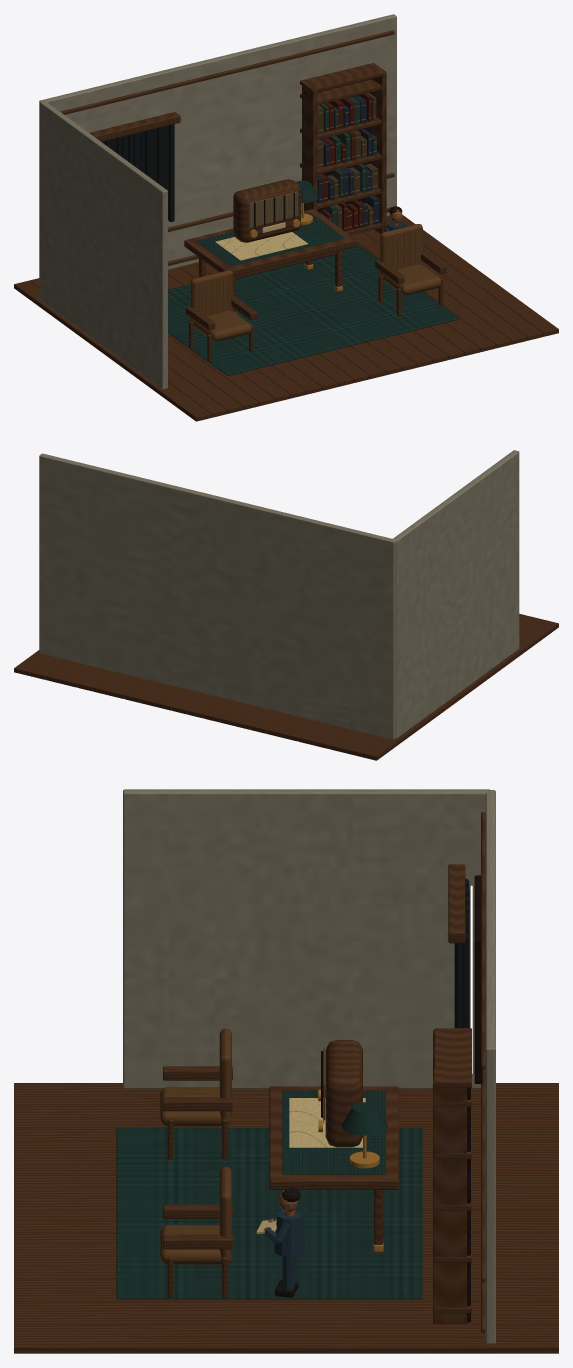
The model's file is room.glb.
The picture shows the model from 3 angles, top to bottom: view 1: azimuth 30°, elevation 25°; view 2: azimuth 150°, elevation 25°; view 3: azimuth 270°, elevation 25°; orthographic projection. The views are drawn at different scales.
Parts seen in each view (by area): view 1: Wallpaper back wall, Domestic floorboard, Rectangular woven carpet, Armchair cushion, Blackout curtain fold, Cloth-bound volume.002, Cloth-bound volume.001, Cloth-bound volume.004, Cloth-bound volume, Blank contour study, Radio cloth grille, Brass leg shoe (+1 smaller); view 2: Wallpaper back wall, Domestic floorboard; view 3: Wallpaper back wall, Domestic floorboard, Rectangular woven carpet, Armchair cushion, Window frame, Figure trouser, Blank contour study, Blackout curtain fold, Brass leg shoe.
Boxes of the visible parts, bbox=[...] form: Wallpaper back wall: bbox=[39, 14, 396, 389]; Domestic floorboard: bbox=[14, 30, 558, 421]; Rectangular woven carpet: bbox=[168, 180, 459, 375]; Armchair cushion: bbox=[190, 224, 441, 341]; Blackout curtain fold: bbox=[102, 124, 174, 221]; Cloth-bound volume.002: bbox=[317, 93, 371, 231]; Cloth-bound volume.001: bbox=[317, 95, 379, 227]; Cloth-bound volume.004: bbox=[317, 92, 378, 228]; Cloth-bound volume: bbox=[319, 97, 376, 225]; Blank contour study: bbox=[215, 222, 307, 260]; Radio cloth grille: bbox=[249, 191, 298, 227]; Brass leg shoe: bbox=[235, 101, 378, 313]; Wallpaper back wall: bbox=[39, 450, 519, 739]; Domestic floorboard: bbox=[14, 613, 558, 760]; Wallpaper back wall: bbox=[123, 789, 495, 1344]; Domestic floorboard: bbox=[14, 811, 558, 1353]; Rectangular woven carpet: bbox=[116, 1090, 422, 1299]; Armchair cushion: bbox=[160, 1028, 231, 1264]; Window frame: bbox=[321, 875, 482, 1322]; Figure trouser: bbox=[264, 1209, 305, 1290]; Blank contour study: bbox=[289, 1098, 365, 1147]; Blackout curtain fold: bbox=[454, 878, 469, 1028]; Brass leg shoe: bbox=[318, 1070, 434, 1252].
Bounding box in the file's own units: 9.19 × 4.9 × 8.
Materials: 17 (17 with a texture image).
